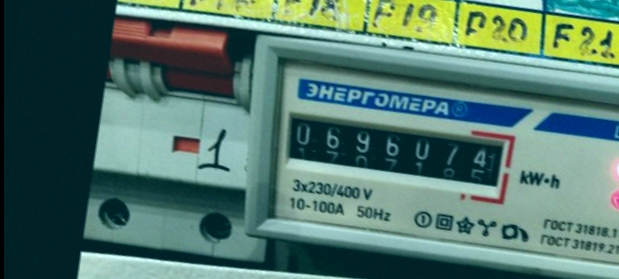0: (291, 119, 313, 145), (412, 134, 431, 161)
4: (470, 142, 489, 166)
5: (468, 167, 486, 184)
6: (383, 130, 404, 158), (323, 123, 343, 149)
7: (442, 139, 462, 166)
9: (352, 127, 372, 155)
screen: (272, 98, 519, 200)
